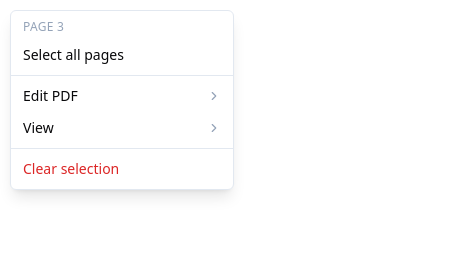
Test: ViewerContextMenu (§6 Canvas) › readOnly: Mutationen fehlen, Leseaktion + Ansicht bleiben (omit-not-grey)
Click the menu item with test id "ctx-group-grp.pdf" at (122, 96), box [11,80,233,112]
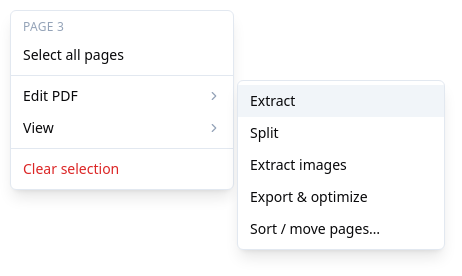
Expected: the menu item with test id "ctx-pg-extract" is shown, [238,85,444,117]
Click the menu item with test id "ctx-group-grp.view" at (122, 128), box [11,112,233,144]
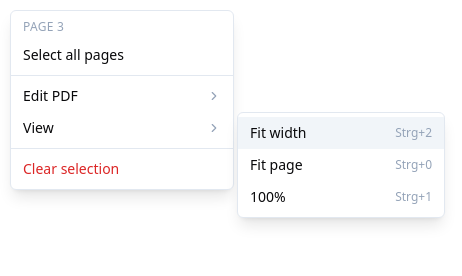
Expected: the menu item with test id "ctx-view-fit-width" is shown, [238,117,444,149]
